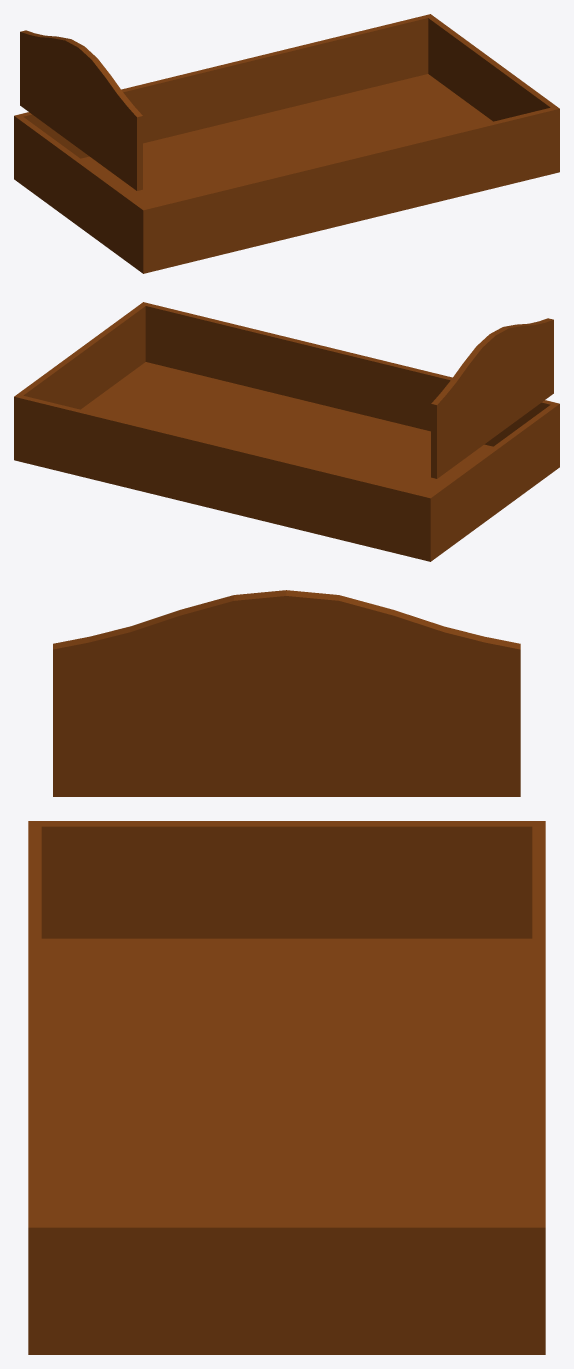
File: bed_frame_and_headboard_001.FBX
3 views of the same model, one above another, from view 1: azimuth 30°, elevation 25°; view 2: azimuth 150°, elevation 25°; view 3: azimuth 270°, elevation 25° (orthographic). The views are drawn at different scales.
Parts seen in each view (by area): view 1: Box002; view 2: Box002; view 3: Box002.
Boxes of the visible parts, x1,y1,x2,y2 form: Box002: (14, 14, 559, 273); Box002: (14, 302, 559, 561); Box002: (28, 590, 545, 1354).
Size of the model in its own units: 1.98 by 0.8132 by 1.07.
